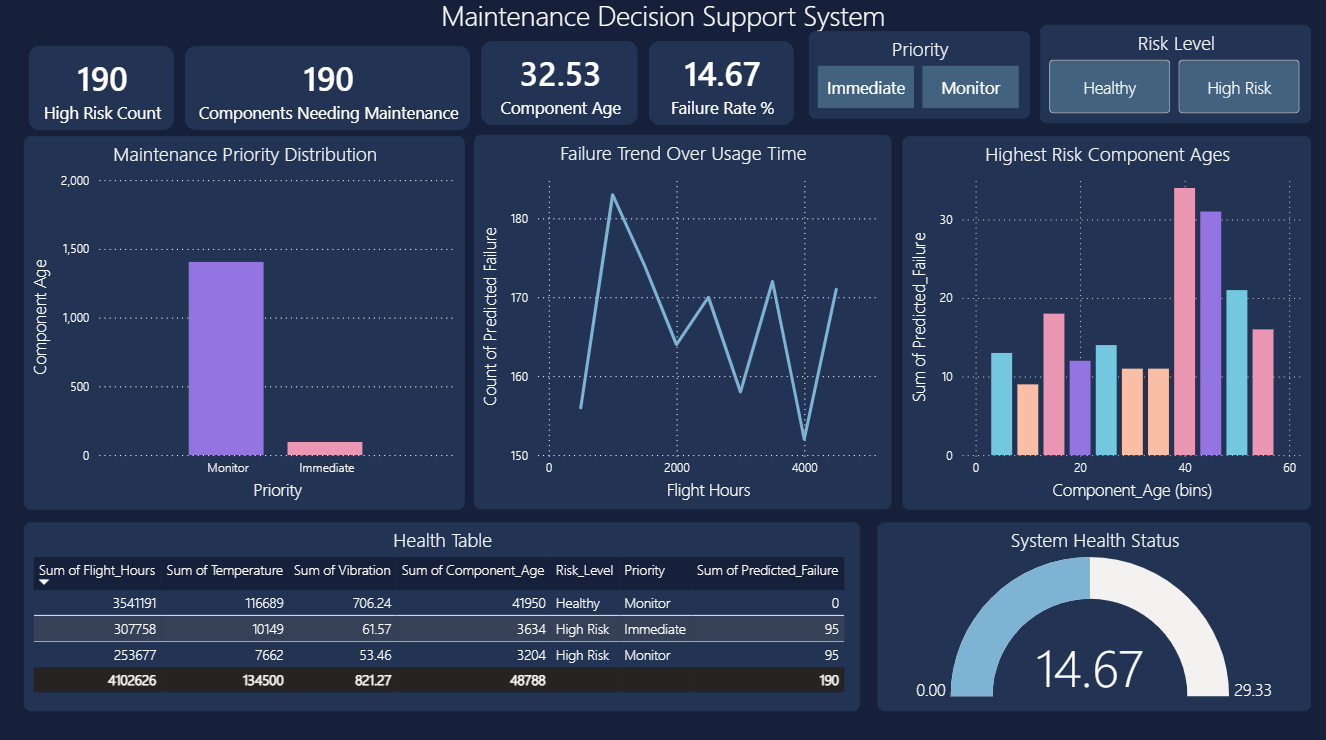

The page's visual inventory and layout, read from the dashboard file:
{"tool":"powerbi","page":{"name":"Page 4","canvas":[1280,720],"ordinal":3},"visuals":[{"type":"textbox","title":"Maintenance Decision Support System","box":[392.1,0,495.8,38.6],"z":0},{"type":"cardVisual","fields":{"Data":["maintenance_powerbi (2).High Risk Count"]},"box":[22.9,43.4,150.8,91.7],"z":1000},{"type":"cardVisual","fields":{"Data":["Sum(maintenance_powerbi (2).Predicted_Failure)"]},"box":[173.7,43.4,285.9,91.7],"z":2000},{"type":"cardVisual","fields":{"Data":["Avg(maintenance_powerbi (2).Component_Age)"]},"box":[459.7,38.6,161.7,91.7],"z":3000},{"type":"cardVisual","fields":{"Data":["maintenance_powerbi (2).Failure Rate %"]},"box":[621.3,38.6,150.8,91.7],"z":4000},{"type":"columnChart","title":"Maintenance Priority Distribution","fields":{"Y":["CountNonNull(maintenance_powerbi (2).Component_Age)"],"Category":["maintenance_powerbi (2).Priority"]},"box":[22.9,135.1,425.9,360.7],"z":5000},{"type":"lineChart","title":"Failure Trend Over Usage Time","fields":{"Category":["maintenance_powerbi (2).Flight_Hours (bins)"],"Y":["CountNonNull(maintenance_powerbi (2).Predicted_Failure)"]},"box":[457.2,133.9,403,361.9],"z":6000},{"type":"clusteredColumnChart","title":"Highest Risk Component Ages","fields":{"Category":["maintenance_powerbi (2).Component_Age (bins)"],"Y":["Sum(maintenance_powerbi (2).Predicted_Failure)"]},"box":[871.1,135.1,394.5,360.7],"z":7000},{"type":"tableEx","title":"Health Table","fields":{"Values":["Sum(maintenance_powerbi (2).Flight_Hours)","Sum(maintenance_powerbi (2).Temperature)","Sum(maintenance_powerbi (2).Vibration)","Sum(maintenance_powerbi (2).Component_Age)","maintenance_powerbi (2).Risk_Level","maintenance_powerbi (2).Priority","Sum(maintenance_powerbi (2).Predicted_Failure)"]},"box":[22.9,507.9,807.1,182.2],"z":8000},{"type":"gauge","title":"System Health Status","fields":{"Y":["maintenance_powerbi (2).Failure Rate %"]},"box":[846.9,507.9,418.6,182.2],"z":10000},{"type":"advancedSlicerVisual","title":"Risk Level","fields":{"Values":["maintenance_powerbi (2).Risk_Level"]},"box":[1003.8,27.7,261.8,95.3],"z":11000},{"type":"advancedSlicerVisual","title":"Priority","fields":{"Values":["maintenance_powerbi (2).Priority"]},"box":[780.6,33.8,213.5,84.5],"z":12000}]}

Visuals, with their boxes in screenshot pixels (x1, y1, x2, y2), scaled from the page's 1280x720 canvas onto the 1326x740 screenshot:
"Maintenance Decision Support System" textbox: 406/0/920/40
cardVisual - maintenance_powerbi (2).High Risk Count: 24/45/180/139
cardVisual - Sum(maintenance_powerbi (2).Predicted_Failure): 180/45/476/139
cardVisual - Avg(maintenance_powerbi (2).Component_Age): 476/40/644/134
cardVisual - maintenance_powerbi (2).Failure Rate %: 644/40/800/134
"Maintenance Priority Distribution" columnChart: 24/139/465/510
"Failure Trend Over Usage Time" lineChart: 474/138/891/510
"Highest Risk Component Ages" clusteredColumnChart: 902/139/1311/510
"Health Table" tableEx: 24/522/860/709
"System Health Status" gauge: 877/522/1311/709
"Risk Level" advancedSlicerVisual: 1040/28/1311/126
"Priority" advancedSlicerVisual: 809/35/1030/122
